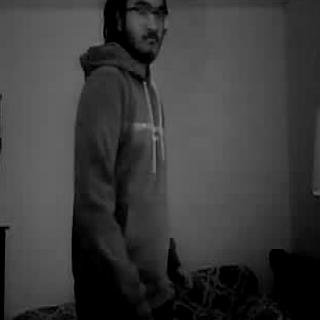Blue Hoodie: (70, 44, 174, 313)
